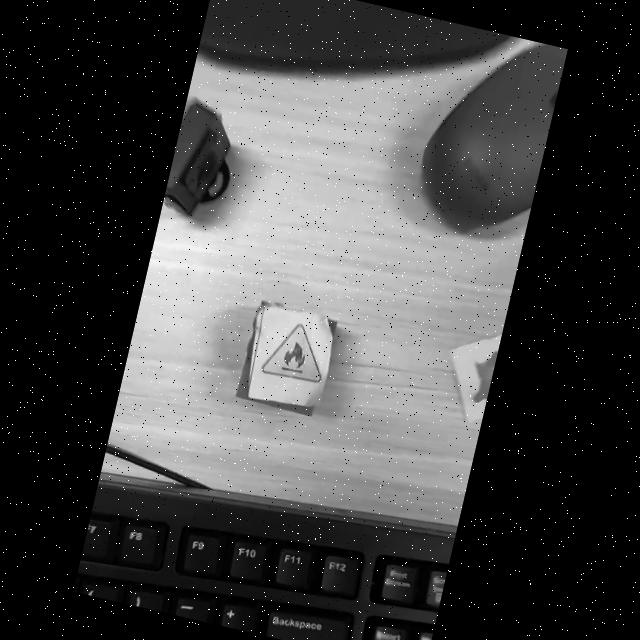Fire: (261, 324, 320, 381)
